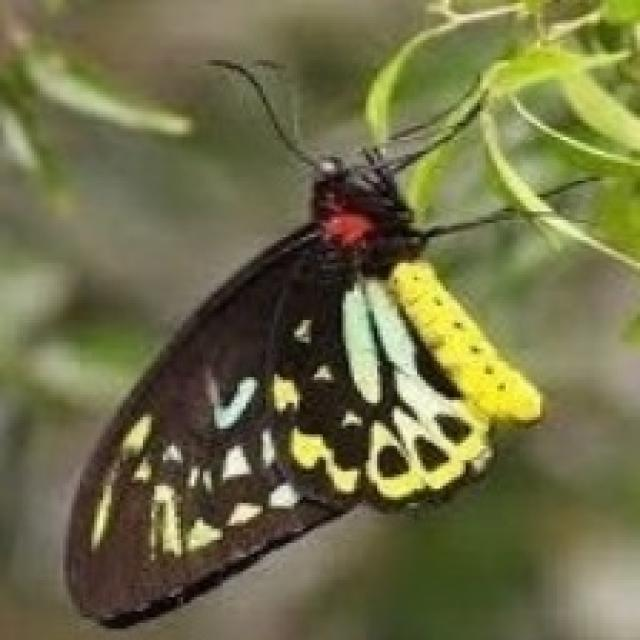butterfly: (60, 51, 600, 628)
